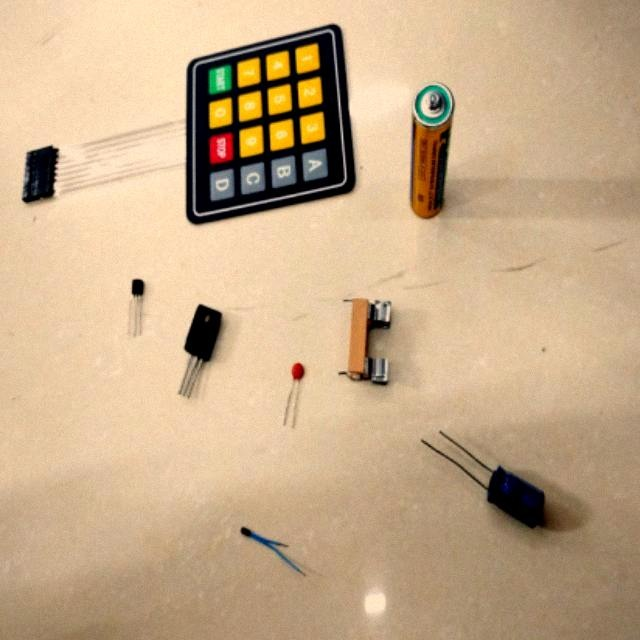capacitor: (487, 469, 544, 526), (284, 362, 304, 425)
